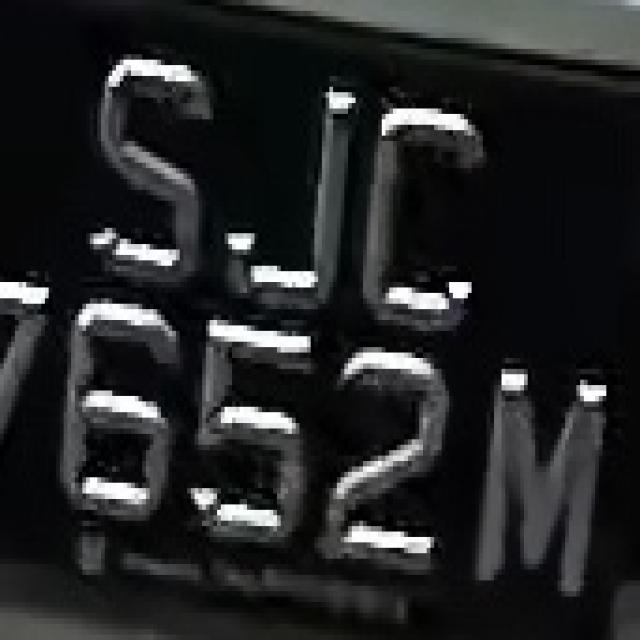2: (326, 331, 449, 591)
5: (172, 293, 322, 553)
6: (52, 282, 180, 537)
C: (367, 65, 483, 358)
H: (0, 272, 51, 444)
J: (225, 49, 359, 293)
M: (472, 342, 614, 608)
S: (94, 22, 210, 282)
